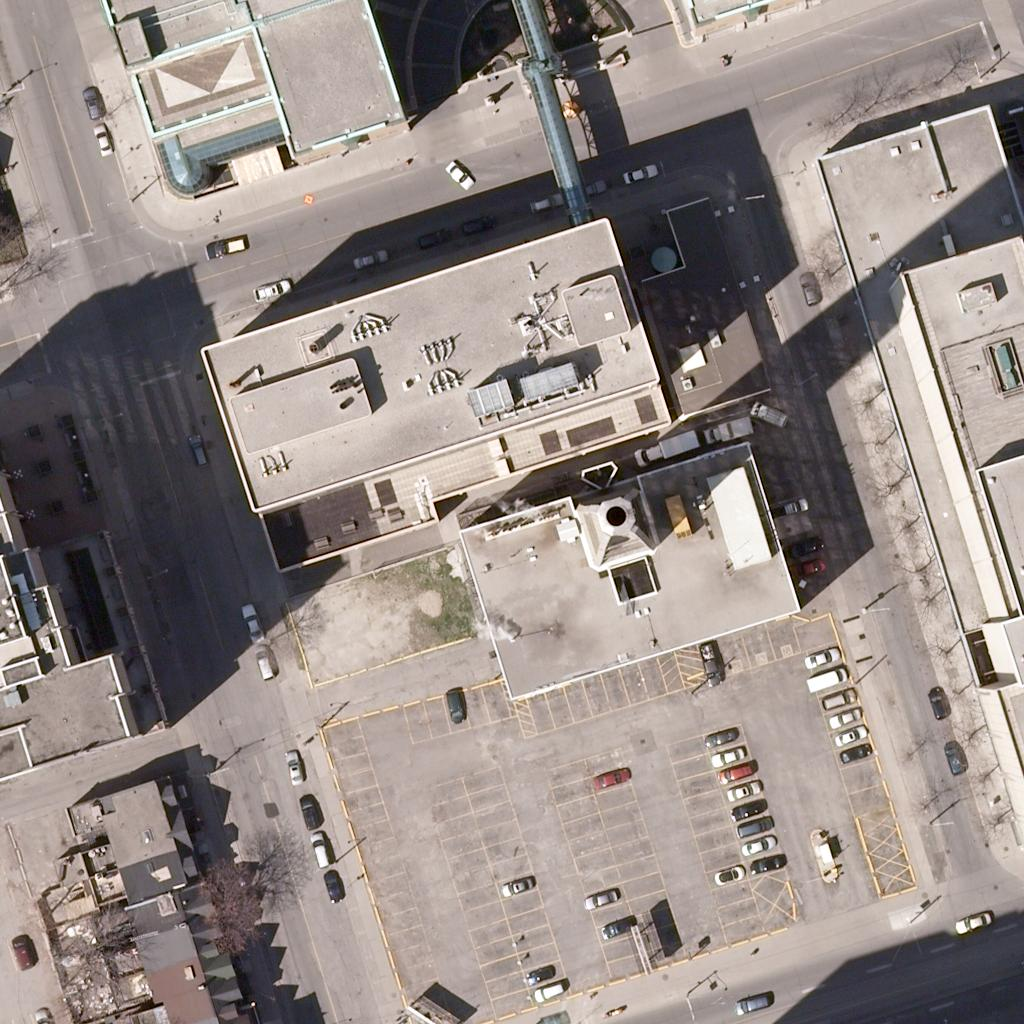car: (75, 90, 109, 124), (85, 123, 119, 157), (440, 156, 474, 190), (620, 157, 654, 191), (574, 171, 608, 205), (525, 187, 559, 221), (456, 209, 490, 243), (417, 221, 451, 255), (205, 229, 239, 263), (348, 244, 382, 278), (792, 272, 826, 306), (252, 276, 286, 310), (743, 395, 777, 429), (699, 415, 733, 449), (179, 432, 213, 466), (777, 490, 811, 524), (787, 530, 821, 564), (793, 548, 827, 582), (234, 605, 268, 639), (803, 640, 837, 674), (691, 646, 725, 680), (246, 647, 280, 681), (815, 659, 849, 693), (822, 681, 856, 715), (437, 685, 471, 719), (922, 688, 956, 722), (827, 699, 861, 733), (704, 717, 738, 751), (832, 718, 866, 752), (837, 735, 871, 769), (711, 738, 745, 772), (935, 740, 969, 774), (277, 754, 311, 788), (720, 754, 754, 788), (591, 760, 625, 794), (726, 772, 760, 806), (730, 791, 764, 825), (290, 798, 324, 832), (735, 809, 769, 843), (739, 827, 773, 861), (303, 834, 337, 868), (750, 846, 784, 880), (711, 856, 745, 890), (315, 868, 349, 902), (502, 869, 536, 903), (585, 880, 619, 914), (957, 903, 991, 937), (601, 909, 635, 943), (5, 935, 39, 969), (524, 955, 558, 989), (534, 972, 568, 1006), (739, 984, 773, 1018)
